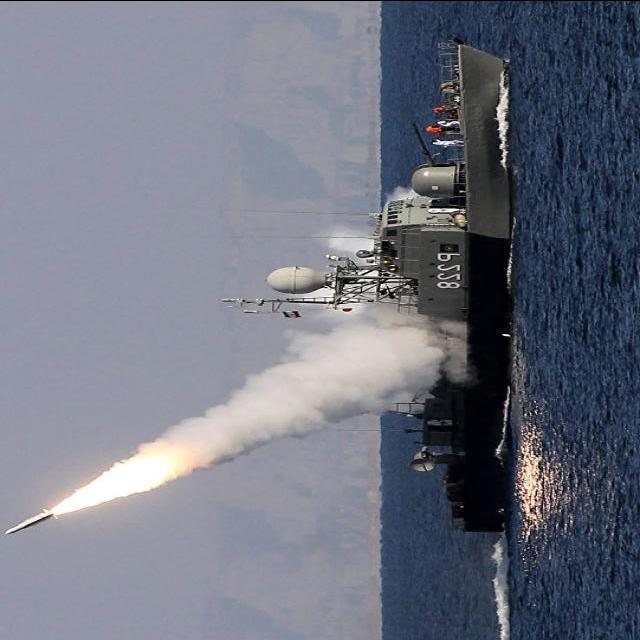missile: (3, 506, 57, 546)
